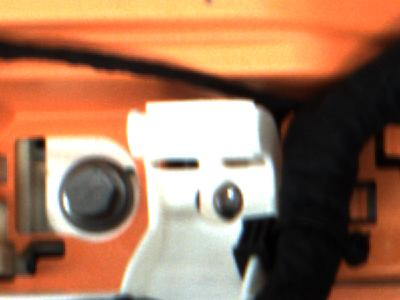nut_b: (57, 155, 138, 231)
